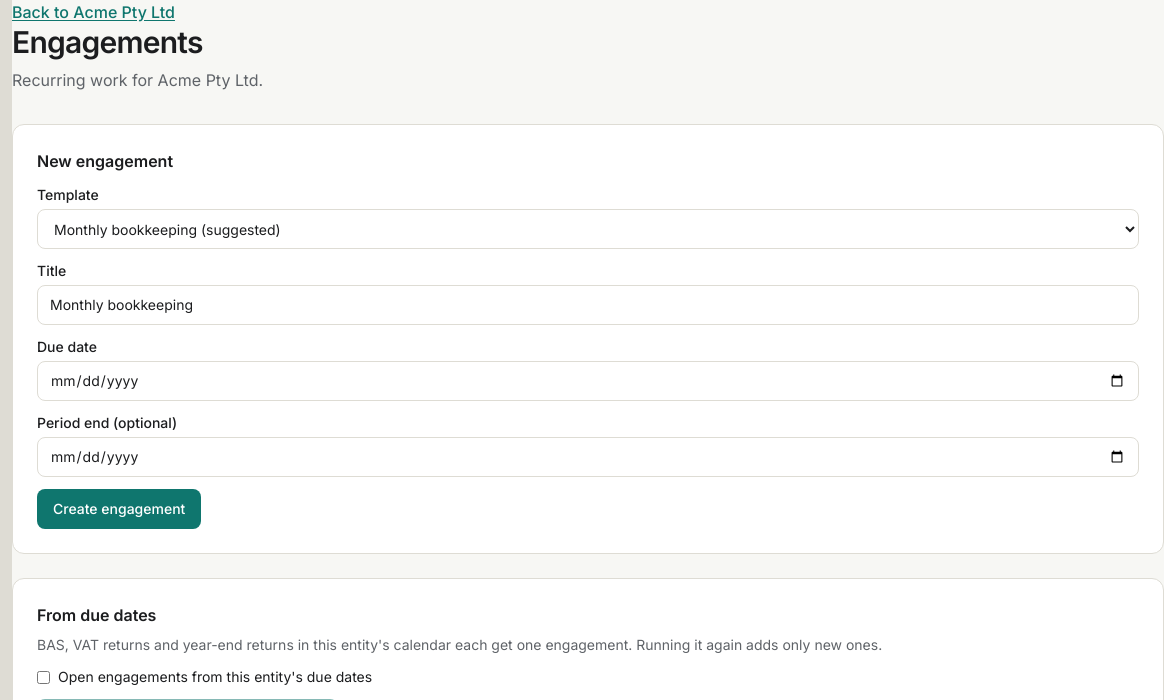
Test: Engagement pages (W1) › EP9 the due-date switch
The image size is (1164, 700).
Step 1. Click the checkbox labelled "Open engagements from this entity's due dates" → (44, 677), box left=37, top=670, right=50, bottom=684
(page scrolled)
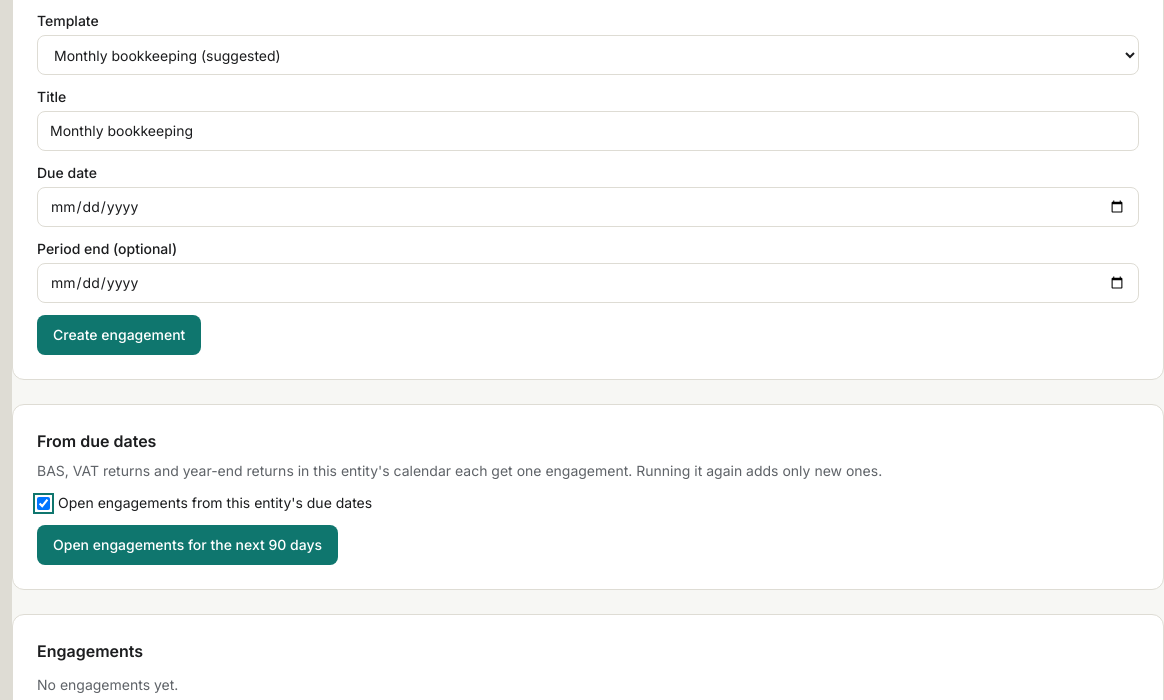
Check: the button "Open engagements for the next 90 days" is enabled, box left=37, top=525, right=338, bottom=565
